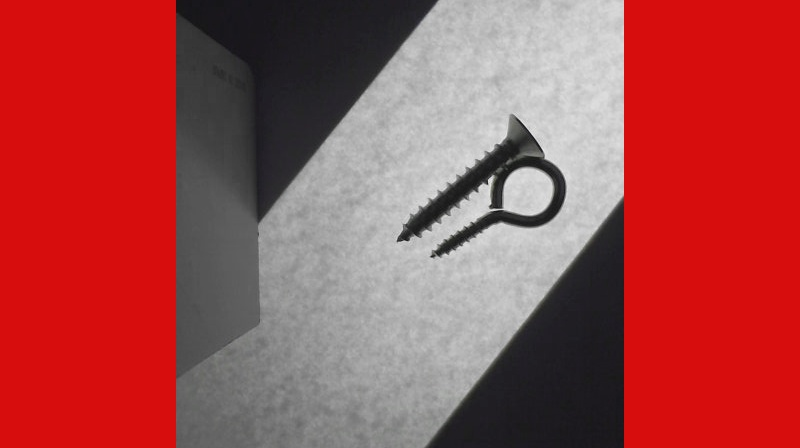O001: (430, 151, 566, 260)
S001: (394, 112, 544, 244)
